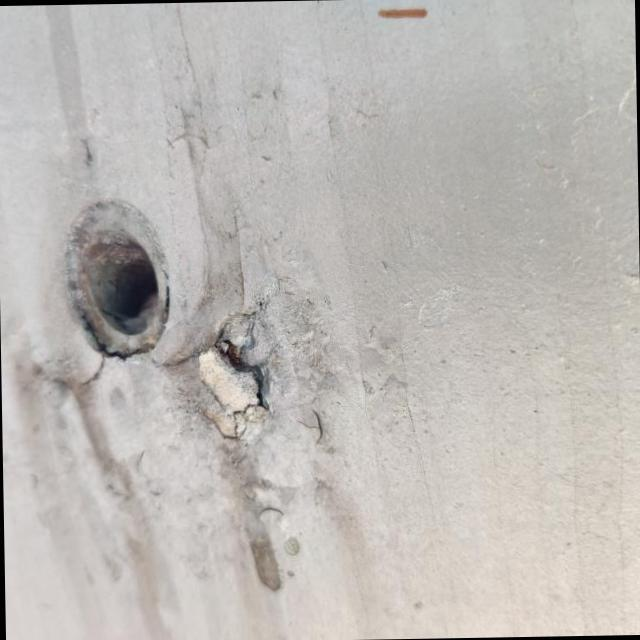Rupture: (156, 304, 284, 449)
